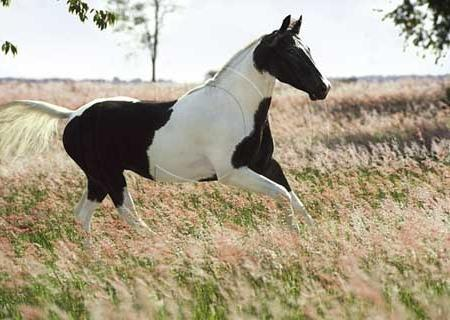horse: (0, 13, 331, 238)
